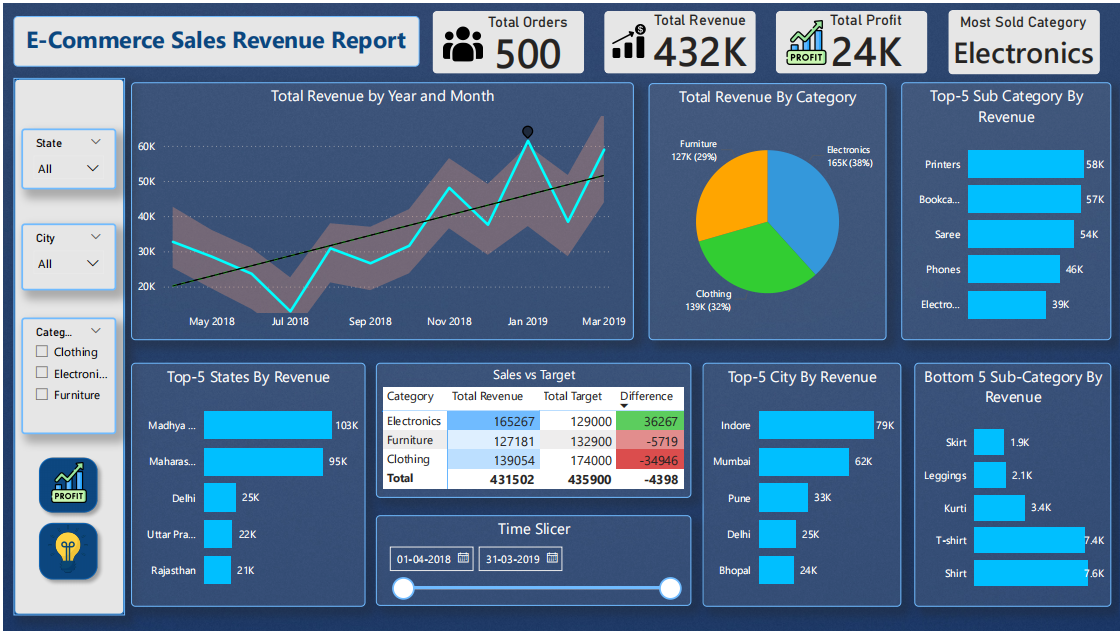

Layout of this report page (visuals, bound fields, positions):
{"tool":"powerbi","page":{"name":"Revenue Analysis","canvas":[1280,720],"ordinal":0},"visuals":[{"type":"textbox","box":[10.8,13.8,466.2,58.5],"z":0},{"type":"shape","title":"Total Orders","box":[492.1,7.9,173.8,71.8],"z":1000},{"type":"shape","box":[689.3,7.9,173.8,71.8],"z":2000},{"type":"shape","box":[886.4,7.9,173.8,71.8],"z":3000},{"type":"shape","box":[1083.5,6.6,174.7,74.5],"z":4000},{"type":"shape","box":[10.6,85.1,128.6,617.1],"z":5000},{"type":"card","title":"Total Orders","fields":{"Values":["CountNonNull(List of Orders.order_id)"]},"box":[515.2,9.8,173.8,70],"z":6000},{"type":"card","title":"Total Revenue","fields":{"Values":["Sum(Order Details.Amount)"]},"box":[712,8,174.7,70],"z":7000},{"type":"card","title":"Total Profit","fields":{"Values":["Sum(Order Details.Profit)"]},"box":[902.7,8,174.7,70],"z":8000},{"type":"card","title":"Most Sold Category","fields":{"Values":["Min(Sales target.Category)"]},"box":[1077.3,10.6,187.1,70],"z":9000},{"type":"barChart","title":"Top-5 Sub Category By Revenue","fields":{"Category":["Order Details.sub_category"],"Y":["Sum(Order Details.Amount)"]},"box":[1030.3,90.4,240.3,295.3],"z":10000},{"type":"barChart","title":"Top-5 States By Revenue","fields":{"Category":["List of Orders.State1"],"Y":["Sum(Order Details.Amount)"]},"box":[146.3,412.3,268.7,279.3],"z":11000},{"type":"lineChart","title":"Total Revenue by Year and Month","fields":{"Y":["Sum(Order Details.Amount)"],"Category":["List of Orders.order_date.Variation.Date Hierarchy.Year","List of Orders.order_date.Variation.Date Hierarchy.Month"]},"box":[146.3,90.4,576.4,295.3],"z":12000},{"type":"pieChart","title":"Total Revenue By Category","fields":{"Category":["Order Details.Category"],"Y":["Sum(Order Details.Amount)"]},"box":[739.8,90.7,273.1,295.3],"z":13000},{"type":"barChart","title":"Top-5 City By Revenue","fields":{"Category":["List of Orders.City"],"Y":["Sum(Order Details.Amount)"]},"box":[801.6,412.3,228.8,279.3],"z":14000},{"type":"pivotTable","title":"Sales vs Target","fields":{"Rows":["Order Details.Category"],"Values":["Sum(Order Details.Amount)","Sum(Sales target.Target)","Sales target.Sales Target Difference"]},"box":[427.3,412.2,361.8,155.2],"z":15000},{"type":"barChart","title":"Bottom 5 Sub-Category By Revenue","fields":{"Category":["Order Details.sub_category"],"Y":["Sum(Order Details.Amount)"]},"box":[1044.5,412.3,226.1,279.3],"z":16000},{"type":"slicer","title":"Time Slicer","fields":{"Values":["List of Orders.order_date"]},"box":[427.3,586.6,361.8,104.8],"z":17000},{"type":"slicer","fields":{"Values":["List of Orders.State1"]},"box":[20.4,142.8,108.2,70],"z":18000},{"type":"slicer","fields":{"Values":["Order Details.Category"]},"box":[20.4,360,108.2,133.9],"z":19000},{"type":"slicer","fields":{"Values":["List of Orders.City"]},"box":[20.4,251.8,108.2,77.1],"z":20000},{"type":"image","box":[500.1,12.4,54.1,66.5],"z":21000},{"type":"image","box":[689.9,18.6,53.2,47.9],"z":22000},{"type":"image","box":[889.4,14.2,63.8,59.4],"z":23000},{"type":"shape","box":[31.9,511.6,84.2,81.6],"z":24000},{"type":"image","box":[46.1,522.3,55.9,55],"z":25000},{"type":"shape","box":[31.9,587,84.2,81.6],"z":26000},{"type":"image","box":[39,593.2,70,65.6],"z":27000}]}

Visuals, with their boxes in screenshot pixels (x1, y1, x2, y2), scaled from the page's 1280x720 canvas onto the 1120x631 screenshot:
textbox: BBox(9, 12, 417, 63)
"Total Orders" shape: BBox(431, 7, 583, 70)
shape: BBox(603, 7, 755, 70)
shape: BBox(776, 7, 928, 70)
shape: BBox(948, 6, 1101, 71)
shape: BBox(9, 75, 122, 615)
"Total Orders" card: BBox(451, 9, 603, 70)
"Total Revenue" card: BBox(623, 7, 776, 68)
"Total Profit" card: BBox(790, 7, 943, 68)
"Most Sold Category" card: BBox(943, 9, 1106, 71)
"Top-5 Sub Category By Revenue" barChart: BBox(902, 79, 1112, 338)
"Top-5 States By Revenue" barChart: BBox(128, 361, 363, 606)
"Total Revenue by Year and Month" lineChart: BBox(128, 79, 632, 338)
"Total Revenue By Category" pieChart: BBox(647, 79, 886, 338)
"Top-5 City By Revenue" barChart: BBox(701, 361, 902, 606)
"Sales vs Target" pivotTable: BBox(374, 361, 690, 497)
"Bottom 5 Sub-Category By Revenue" barChart: BBox(914, 361, 1112, 606)
"Time Slicer" slicer: BBox(374, 514, 690, 606)
slicer - List of Orders.State1: BBox(18, 125, 113, 186)
slicer - Order Details.Category: BBox(18, 316, 113, 433)
slicer - List of Orders.City: BBox(18, 221, 113, 288)
image: BBox(438, 11, 485, 69)
image: BBox(604, 16, 650, 58)
image: BBox(778, 12, 834, 65)
shape: BBox(28, 448, 102, 520)
image: BBox(40, 458, 89, 506)
shape: BBox(28, 514, 102, 586)
image: BBox(34, 520, 95, 577)
